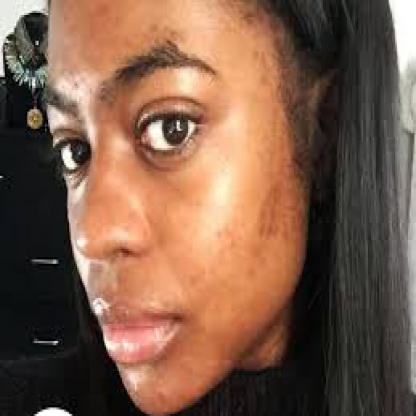darkspot: (246, 184, 292, 249), (252, 47, 270, 92), (180, 266, 210, 287)
